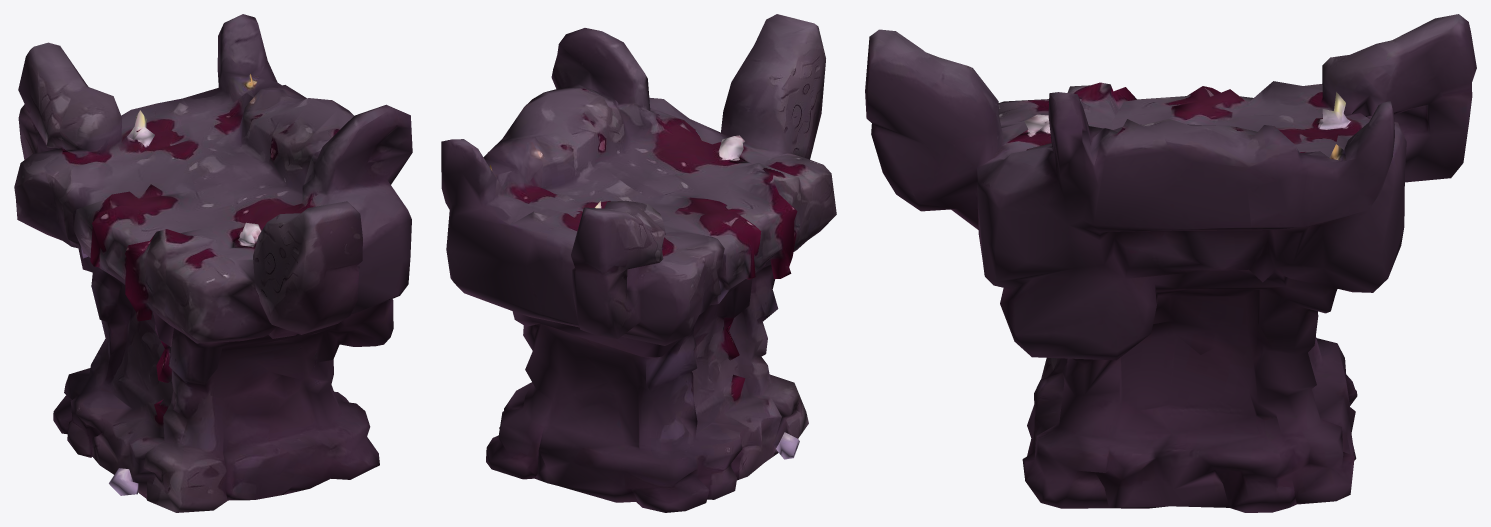
File: altar.glb
3 views of the same model, side by side, from view 1: azimuth 30°, elevation 25°; view 2: azimuth 150°, elevation 25°; view 3: azimuth 270°, elevation 25° (orthographic). The views are drawn at different scales.
Parts seen in each view (by area): view 1: tripo_node_d1dbe9c8-84ca-4309-8f7d-2983e10cb3bd; view 2: tripo_node_d1dbe9c8-84ca-4309-8f7d-2983e10cb3bd; view 3: tripo_node_d1dbe9c8-84ca-4309-8f7d-2983e10cb3bd.
Part boxes in pixels (x1,y1,x2,y2): tripo_node_d1dbe9c8-84ca-4309-8f7d-2983e10cb3bd: [14, 14, 412, 512]; tripo_node_d1dbe9c8-84ca-4309-8f7d-2983e10cb3bd: [441, 14, 836, 512]; tripo_node_d1dbe9c8-84ca-4309-8f7d-2983e10cb3bd: [865, 14, 1476, 512].
Bounding box in the file's own units: 0.5976 × 0.7491 × 0.997.
Materials: 1 (1 with a texture image).
